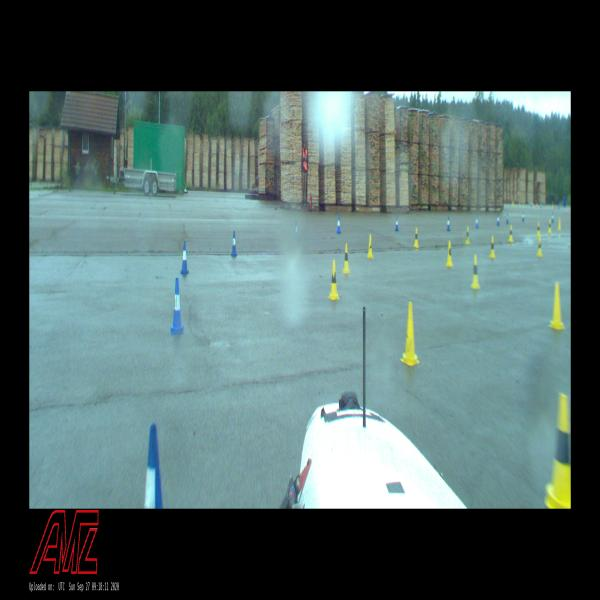blue_cone: (144, 423, 163, 508), (170, 278, 184, 334), (180, 241, 190, 274), (231, 231, 237, 257), (337, 215, 340, 234), (447, 216, 450, 231), (395, 216, 398, 231), (496, 214, 500, 224), (521, 211, 525, 221), (505, 213, 509, 223), (475, 215, 478, 228)
yellow_cone: (544, 393, 570, 508), (400, 301, 420, 366), (548, 282, 566, 330), (328, 260, 340, 299), (470, 254, 480, 289), (342, 243, 351, 273), (446, 240, 453, 267), (367, 234, 373, 258), (489, 236, 495, 259), (536, 235, 542, 257), (413, 228, 419, 247), (464, 226, 470, 244), (509, 225, 513, 242), (536, 222, 540, 238), (548, 219, 552, 233), (557, 218, 561, 229)
